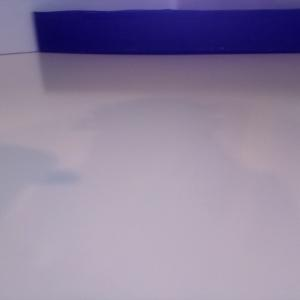zone: (33, 8, 300, 55)
